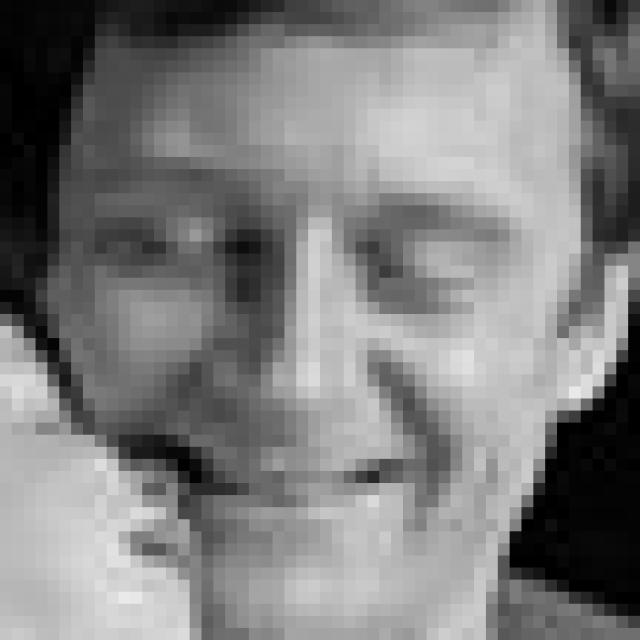Eyeclosed: (373, 252, 473, 307), (140, 223, 247, 273)
